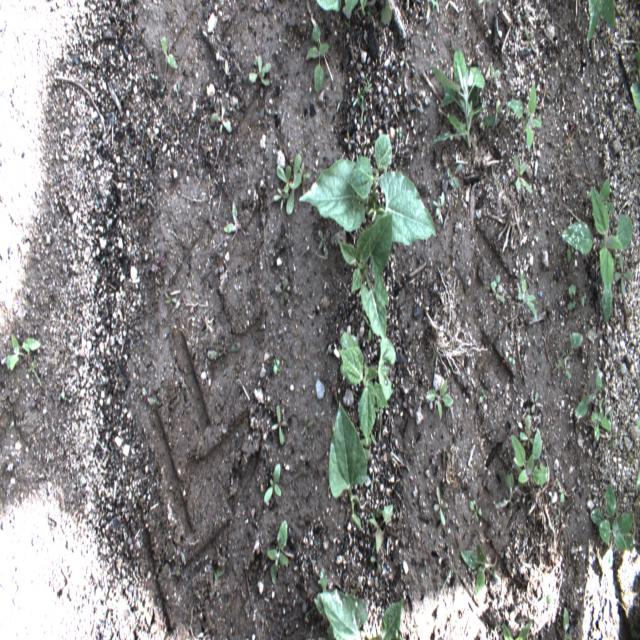crop: (299, 132, 437, 245), (338, 214, 392, 341), (337, 332, 396, 444), (328, 403, 367, 530), (314, 588, 402, 640), (344, 0, 367, 21), (315, 0, 341, 11)
weed: (561, 185, 632, 323), (431, 50, 486, 146), (589, 482, 634, 574), (507, 79, 542, 150), (510, 427, 550, 486), (460, 544, 498, 597), (306, 22, 328, 95), (264, 518, 287, 584), (585, 0, 616, 47), (6, 332, 42, 372), (368, 502, 394, 556), (552, 333, 582, 378), (574, 368, 600, 418), (426, 378, 454, 420), (585, 178, 616, 214), (493, 467, 518, 510), (352, 76, 373, 125), (517, 266, 536, 320), (590, 397, 612, 443), (286, 151, 302, 214), (441, 548, 463, 590), (513, 152, 533, 195), (614, 251, 632, 297), (628, 43, 639, 117), (275, 165, 302, 195), (250, 52, 272, 86), (262, 463, 280, 502), (502, 618, 534, 639), (482, 96, 503, 128), (160, 35, 178, 72), (270, 404, 286, 442), (223, 200, 240, 235), (433, 487, 447, 528), (210, 105, 231, 131), (520, 412, 534, 448), (297, 163, 310, 198), (566, 284, 584, 309), (272, 186, 288, 214), (446, 162, 463, 188), (432, 192, 445, 225), (275, 277, 289, 306), (491, 274, 505, 303), (257, 92, 271, 120), (524, 28, 538, 54), (379, 1, 393, 24), (316, 229, 328, 255), (469, 498, 482, 522), (563, 607, 573, 638), (140, 386, 154, 408), (300, 411, 312, 436), (359, 438, 372, 460), (489, 63, 500, 88), (426, 0, 439, 21), (342, 130, 356, 149), (399, 49, 412, 69), (362, 314, 371, 340), (319, 568, 328, 591), (532, 391, 541, 413), (369, 557, 382, 572), (556, 481, 564, 503), (378, 412, 383, 443), (408, 104, 424, 113), (479, 387, 487, 405), (273, 357, 281, 372), (566, 242, 571, 265), (634, 469, 639, 490), (634, 415, 640, 429), (508, 355, 515, 365), (546, 593, 551, 603)
